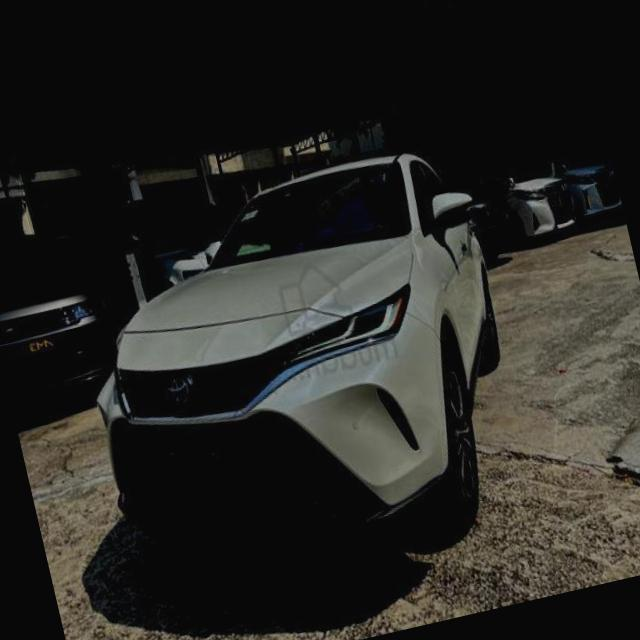PeroduaAtiva: (52, 132, 552, 620)
